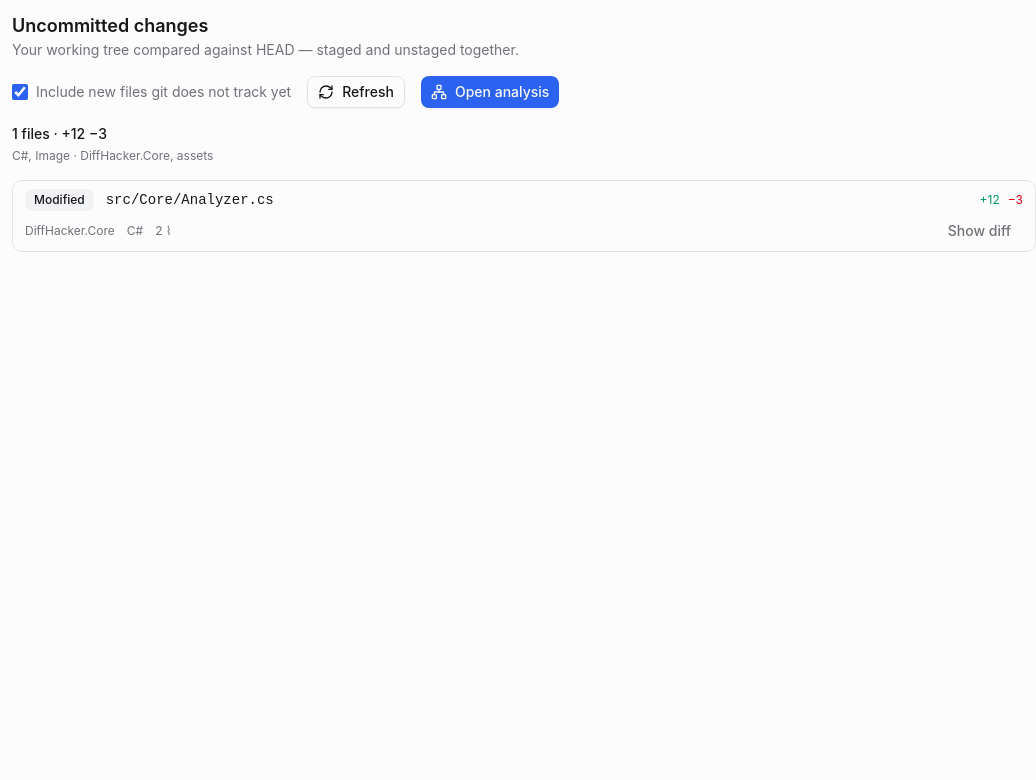
Scenario: ChangesetPanel › says an oversized diff is oversized instead of showing nothing, and never mounts an editor
Click the button "Show diff" at (979, 231), box [936,219,1023,243]
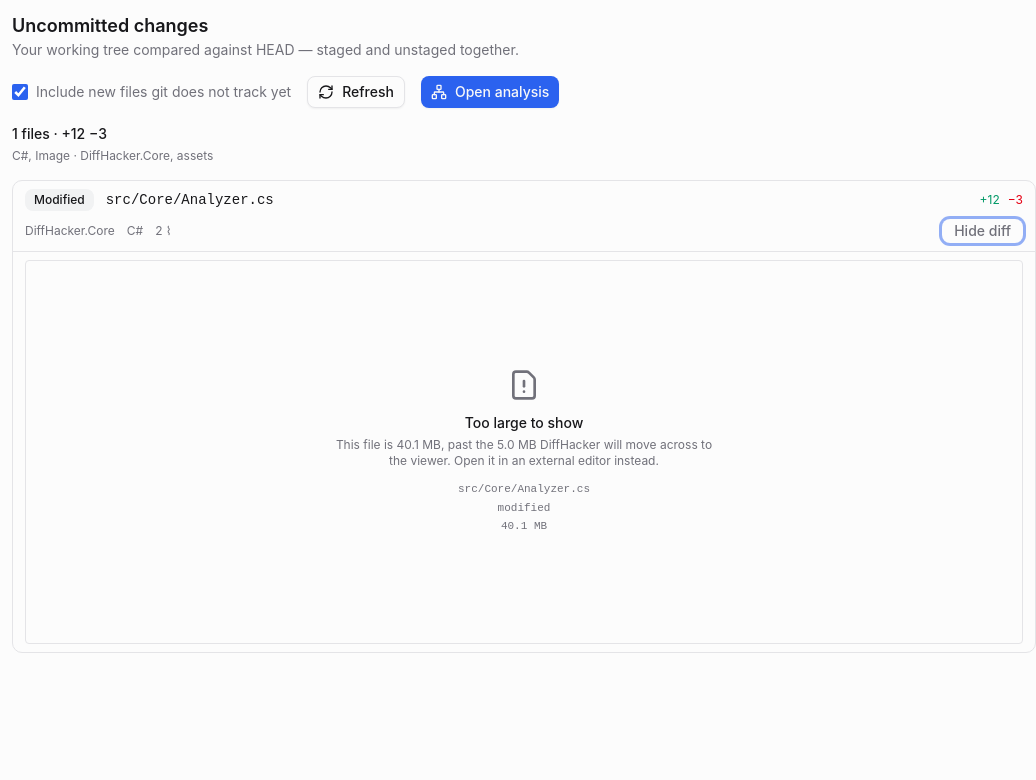
Check: the element with test id "diff-unavailable" is shown, box [336,369,712,532]
Check: the element with test id "diff-unavailable" shows "40.1 MB", box [336,437,712,468]
